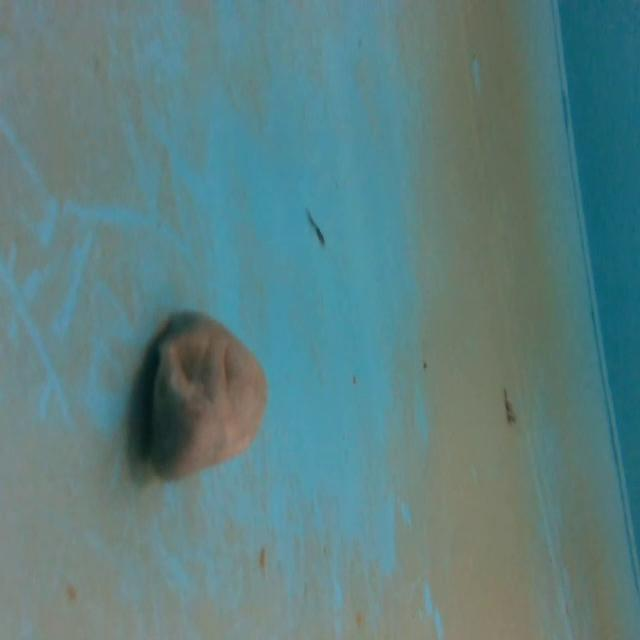rock: (139, 305, 273, 490)
